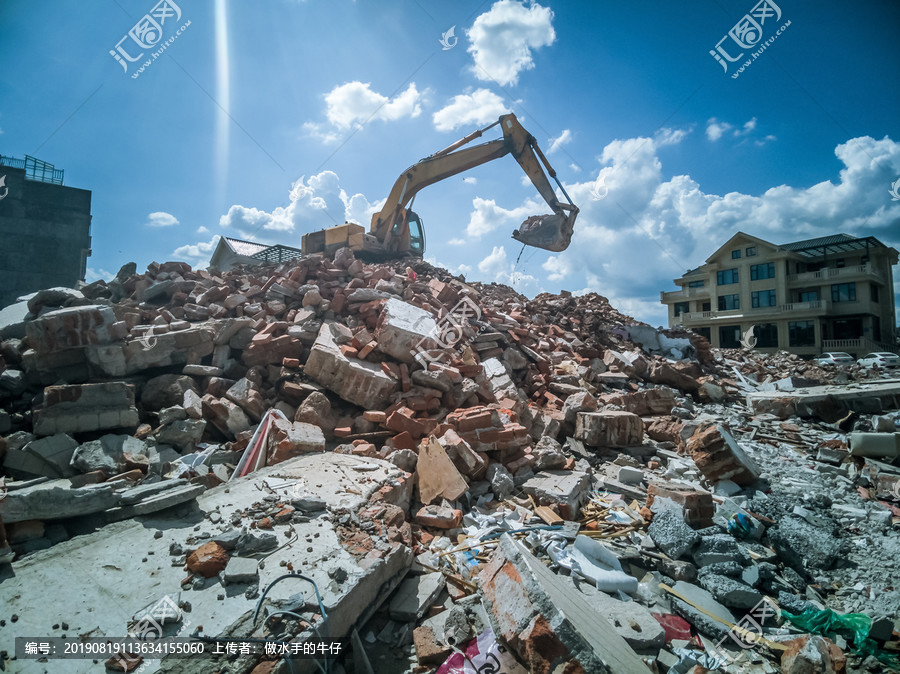excavator: (279, 111, 589, 270)
